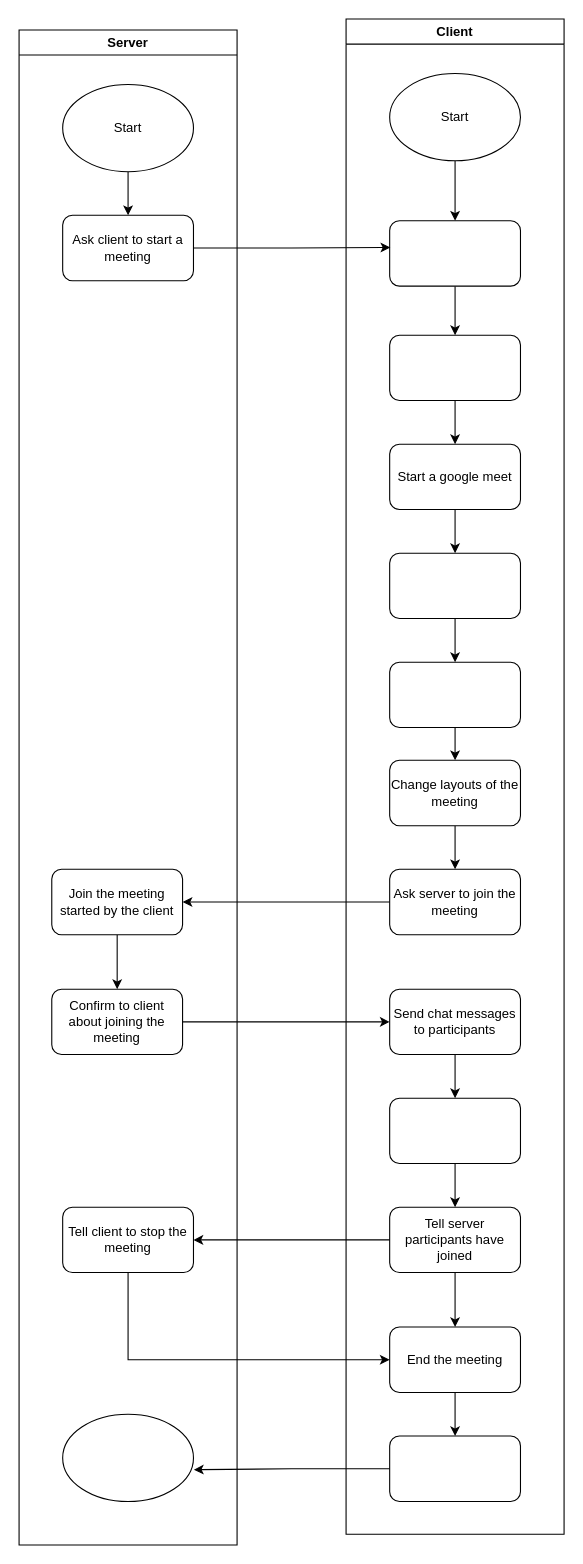
Some shapes in this 583 by 1564 pixel diagram are drawn without their labels. Each missing label, with the centre of its shape:
"Change custom background" belongs at (454,1130).
"Confirm to server that meeting has ended" belongs at (454,1468).
"End" belongs at (127,1457).
"Give permissions for mic and camera" belongs at (454,585).
"Go to google meet link" belongs at (454,367).
"Mute the microphone" belongs at (454,694).
"Open a chrome browser in stealth mode" belongs at (454,253).
